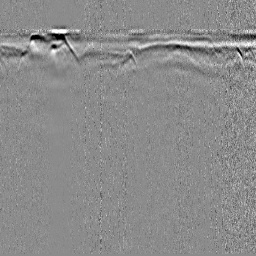cavity: (119, 45, 137, 67)
